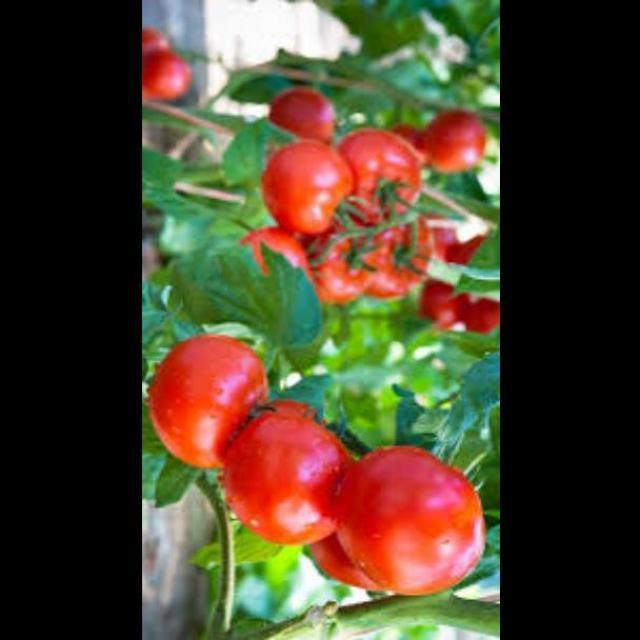Tomato: (326, 448, 484, 592), (144, 332, 282, 476), (218, 407, 354, 547), (262, 138, 364, 233), (342, 131, 432, 223), (355, 218, 445, 302), (309, 217, 384, 316), (234, 218, 314, 304), (412, 273, 500, 344), (142, 26, 206, 114), (420, 109, 496, 179), (272, 83, 348, 146)
